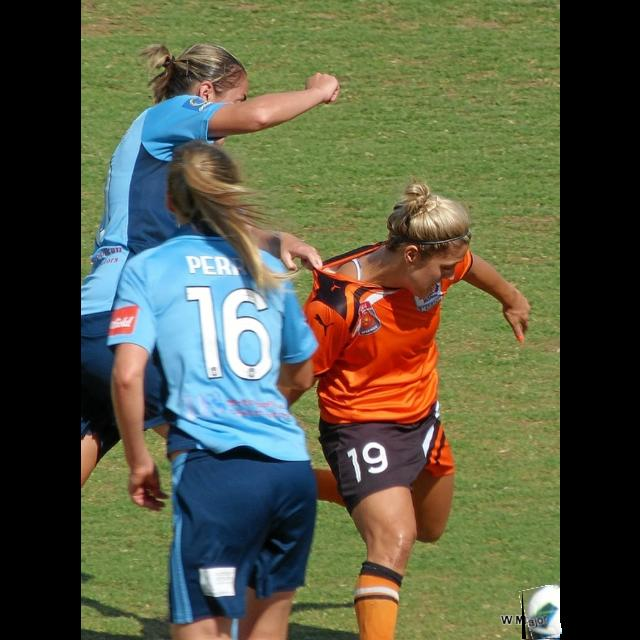Football: (522, 587, 560, 639)
